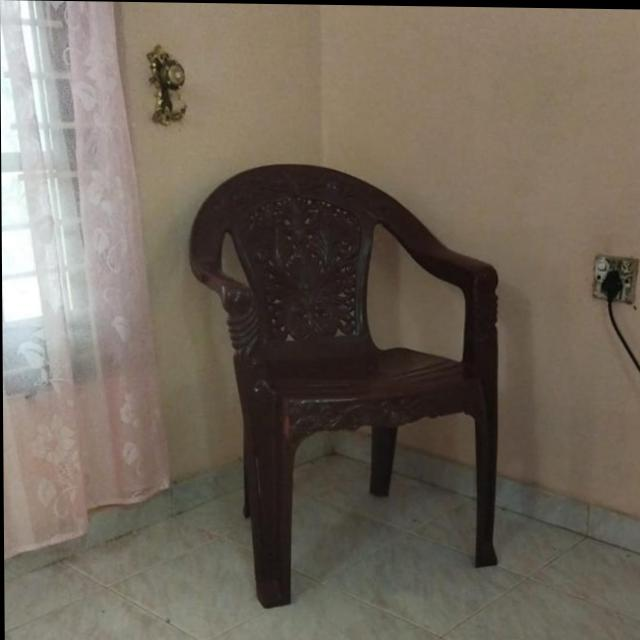Chair: (190, 160, 501, 612)
